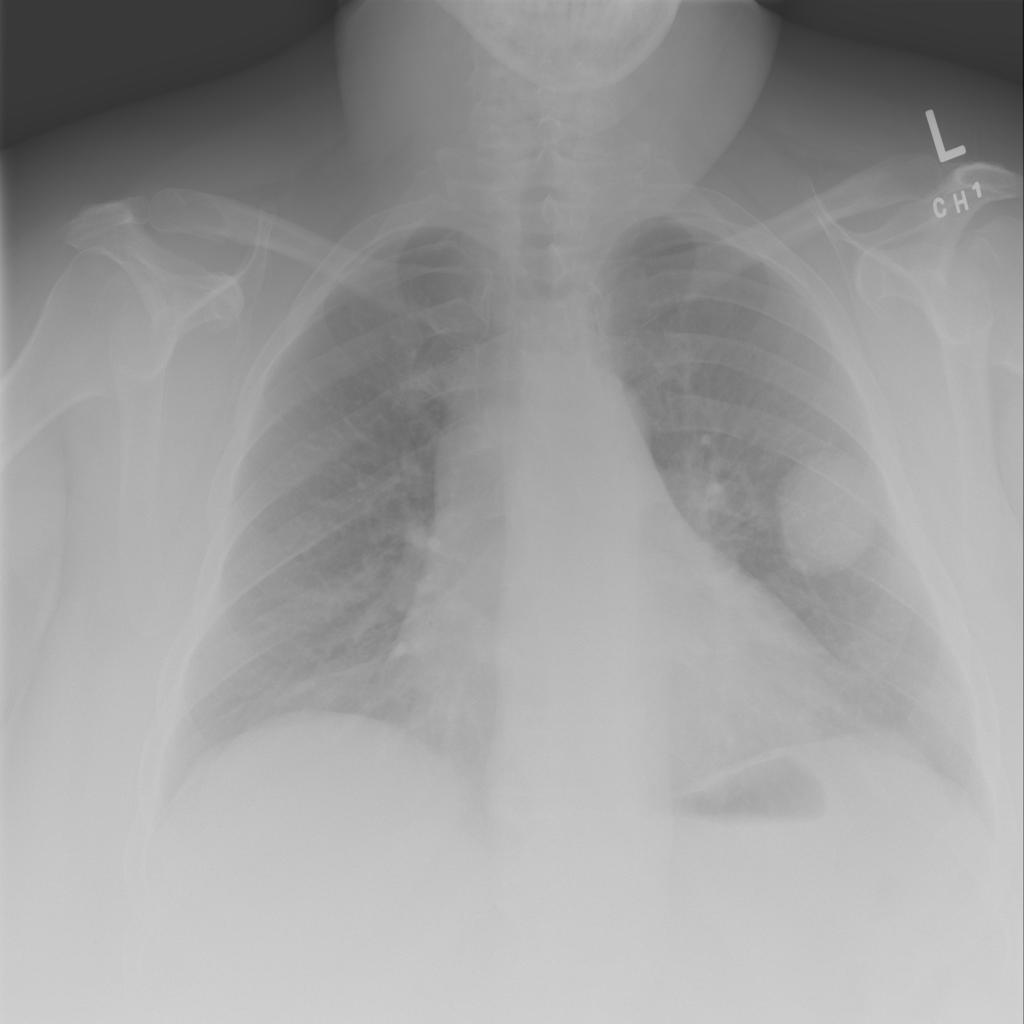Nodule: (148, 138, 160, 152)
